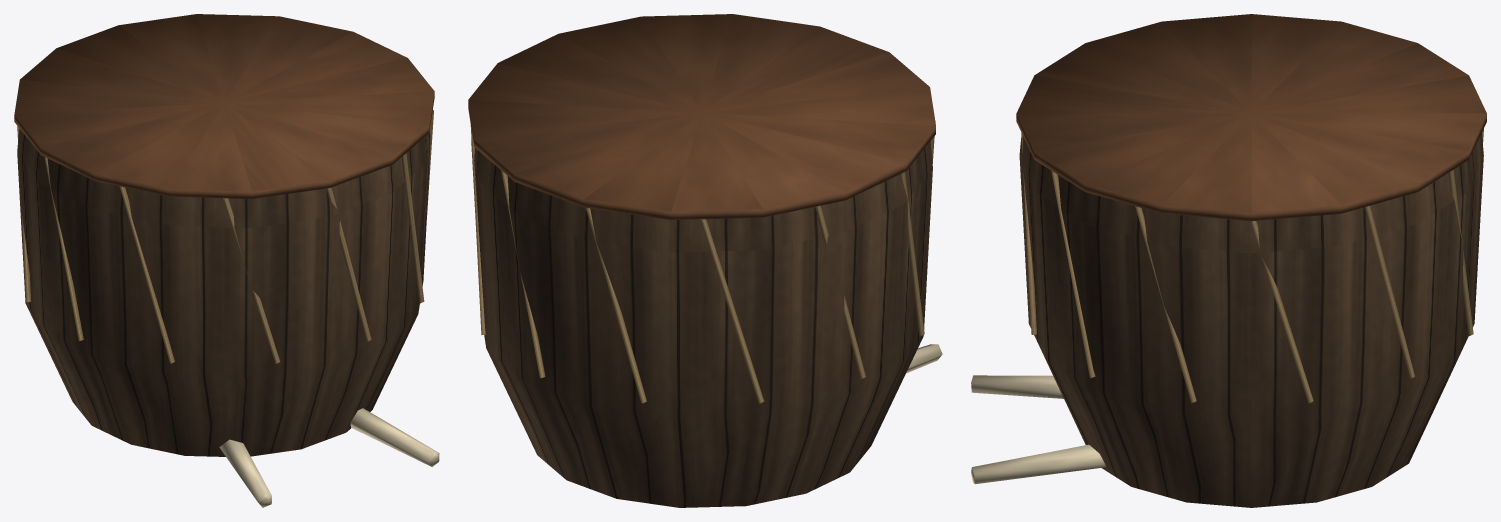
The model's file is WarDrum_1.gltf.
3 renders of one model, left to right at view 1: azimuth 30°, elevation 25°; view 2: azimuth 150°, elevation 25°; view 3: azimuth 270°, elevation 25°, orthographic. The views are drawn at different scales.
Parts seen in each view (by area): view 1: WarDrum_1; view 2: WarDrum_1; view 3: WarDrum_1.
Boxes of the visible parts, bbox=[...] form: WarDrum_1: bbox=[14, 14, 439, 507]; WarDrum_1: bbox=[468, 14, 942, 507]; WarDrum_1: bbox=[971, 14, 1486, 507].
Bounding box in the file's own units: 1.52 × 1.16 × 1.67.
Materials: 4 (4 with a texture image).
